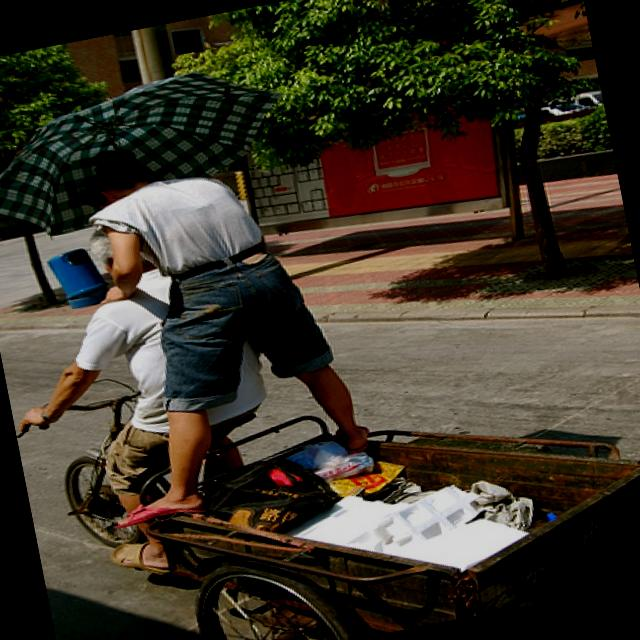Vehicle: (546, 88, 604, 114), (540, 98, 592, 120)
